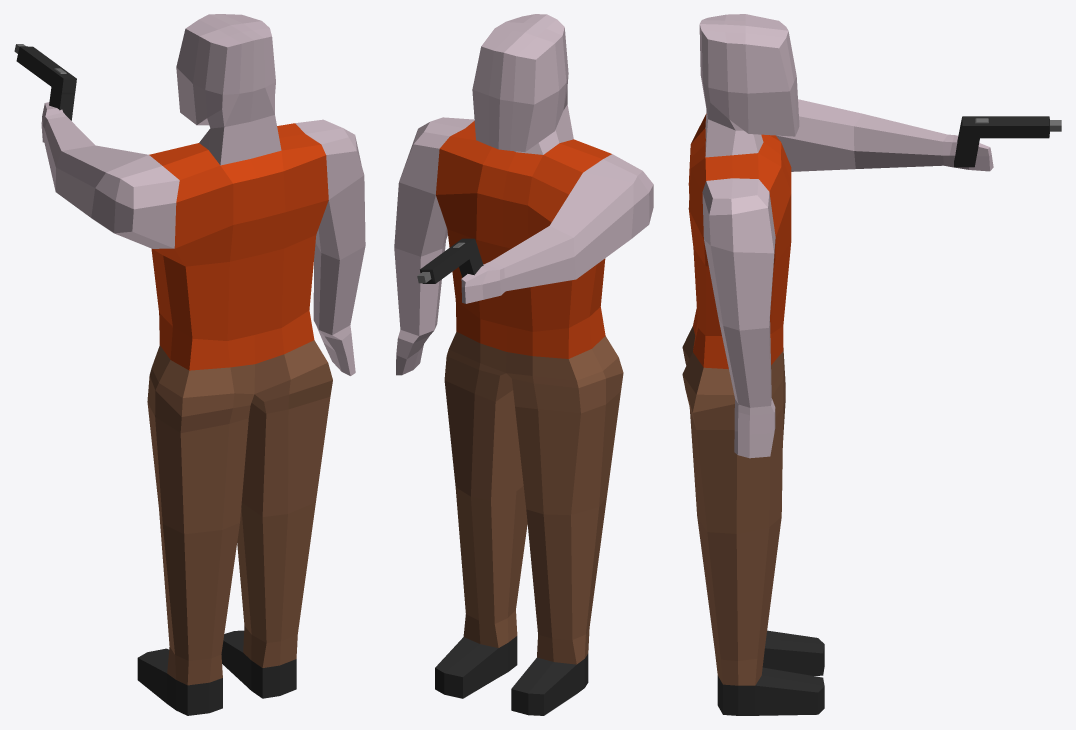
The model's file is player.fbx.
3 views of the same model, side by side, from view 1: azimuth 30°, elevation 25°; view 2: azimuth 150°, elevation 25°; view 3: azimuth 270°, elevation 25° (orthographic). The views are drawn at different scales.
Visible parts, largest first — view 1: player; view 2: player; view 3: player.
Boxes of the visible parts, x1,y1,x2,y2 form: player: [14, 14, 365, 715]; player: [394, 14, 653, 715]; player: [682, 14, 1061, 715].
Bounding box in the file's own units: 156 × 394 × 204.
